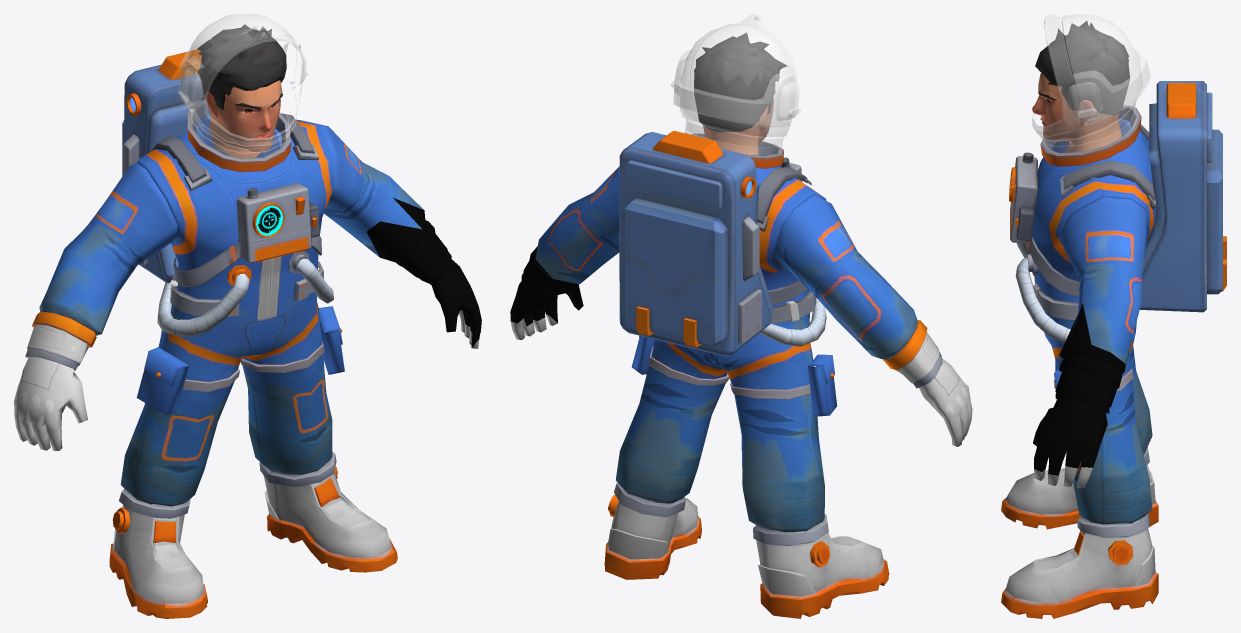
3 views of the same model, side by side, from view 1: azimuth 30°, elevation 25°; view 2: azimuth 150°, elevation 25°; view 3: azimuth 270°, elevation 25° (orthographic).
Visible parts, largest first — view 1: PA_chr_NanZhu_yhf_mod_V001; view 2: PA_chr_NanZhu_yhf_mod_V001; view 3: PA_chr_NanZhu_yhf_mod_V001.
Part boxes in pixels (left/top/right/bottom): PA_chr_NanZhu_yhf_mod_V001: left=14, top=14, right=481, bottom=618; PA_chr_NanZhu_yhf_mod_V001: left=510, top=14, right=972, bottom=618; PA_chr_NanZhu_yhf_mod_V001: left=1001, top=14, right=1226, bottom=618.
Size of what is drawn, in the model's own units: 1.28 by 1.48 by 0.5587.
Materials: 3 (1 with a texture image).
